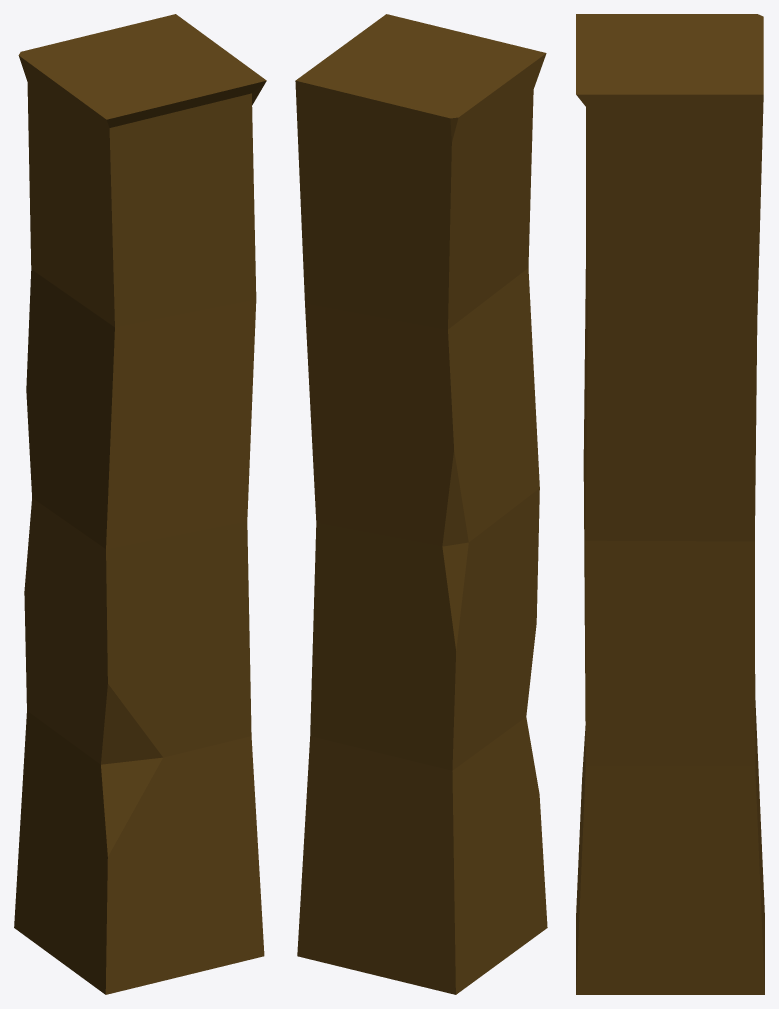
File: RUIN_HOUSE_STAND.fbx
The picture shows the model from 3 angles, left to right: view 1: azimuth 30°, elevation 25°; view 2: azimuth 150°, elevation 25°; view 3: azimuth 270°, elevation 25°; orthographic projection. The views are drawn at different scales.
Parts seen in each view (by area): view 1: Cube.158; view 2: Cube.158; view 3: Cube.158.
Part boxes in pixels (bbox=[...]): Cube.158: bbox=[14, 14, 266, 994]; Cube.158: bbox=[295, 14, 547, 994]; Cube.158: bbox=[576, 14, 764, 994].
Bounding box in the file's own units: 226 × 1175 × 223.
